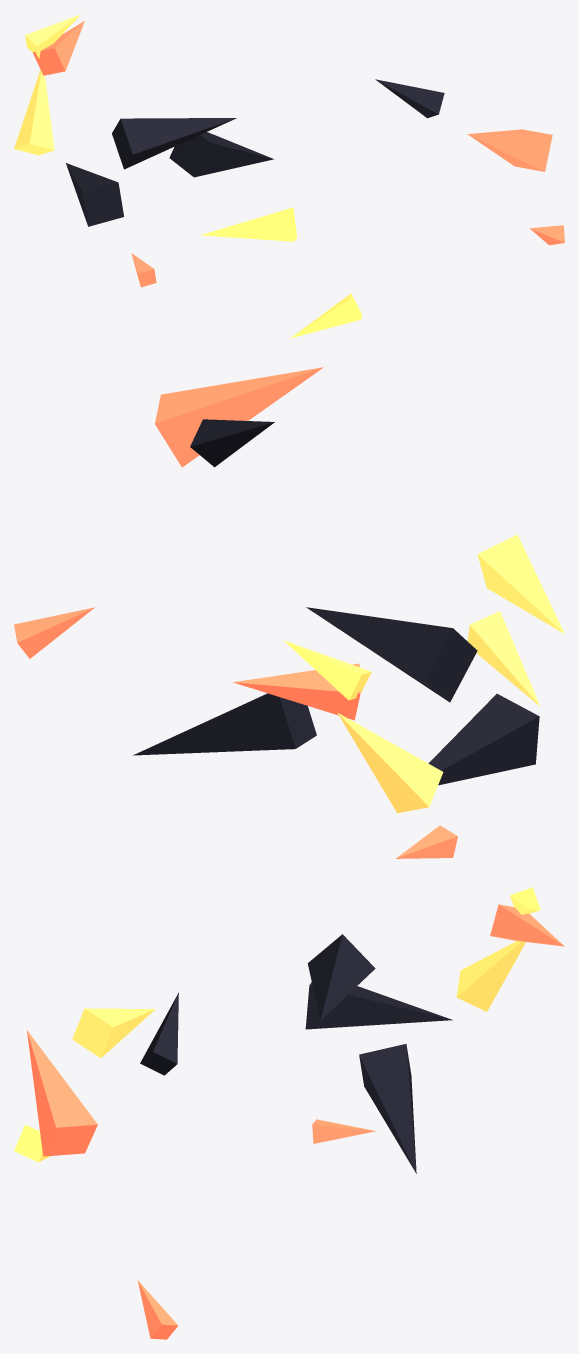
File: fx_pahon_shards_b.glb
3 views of the same model, one above another, from view 1: azimuth 30°, elevation 25°; view 2: azimuth 150°, elevation 25°; view 3: azimuth 270°, elevation 25° (orthographic). The views are drawn at different scales.
Visible parts, largest first — view 1: fx_pahon_shards_b; view 2: fx_pahon_shards_b; view 3: fx_pahon_shards_b.
Part boxes in pixels (x1,y1,x2,y2): fx_pahon_shards_b: (14, 14, 564, 338); fx_pahon_shards_b: (14, 367, 564, 858); fx_pahon_shards_b: (14, 887, 564, 1339).
Bounding box in the file's own units: 2.54 × 1.21 × 2.4.
